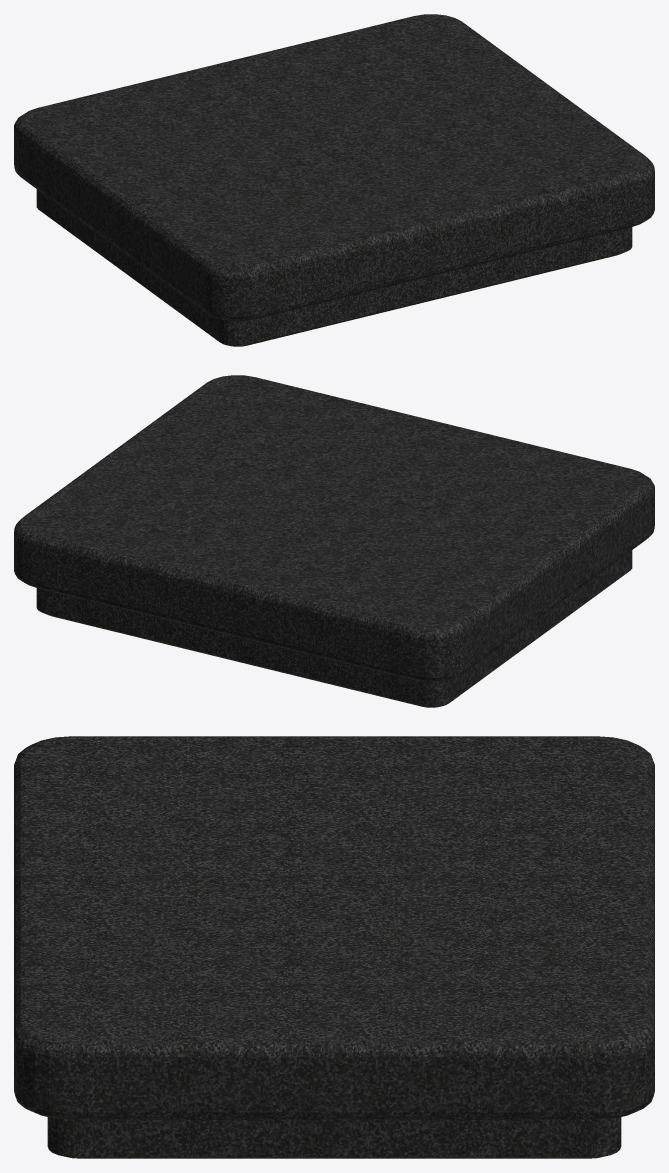
File: slab-half.glb
3 views of the same model, one above another, from view 1: azimuth 30°, elevation 25°; view 2: azimuth 150°, elevation 25°; view 3: azimuth 270°, elevation 25° (orthographic). The views are drawn at different scales.
Parts seen in each view (by area): view 1: SM_slab_half; view 2: SM_slab_half; view 3: SM_slab_half.
Boxes of the visible parts, x1,y1,x2,y2 form: SM_slab_half: [14, 14, 654, 346]; SM_slab_half: [14, 375, 654, 707]; SM_slab_half: [14, 736, 654, 1158].
Size of the model in its own units: 0.66 by 0.126 by 0.57.
Materials: 2 (2 with a texture image).
